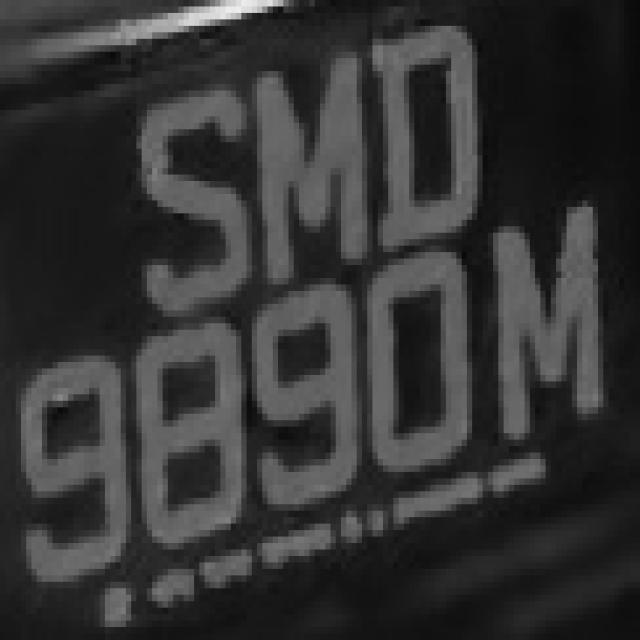0: (357, 246, 472, 491)
8: (121, 298, 257, 562)
9: (226, 265, 367, 537), (16, 330, 131, 594)
D: (352, 20, 482, 252)
M: (482, 181, 608, 446), (241, 46, 378, 284)
S: (110, 71, 257, 323)
